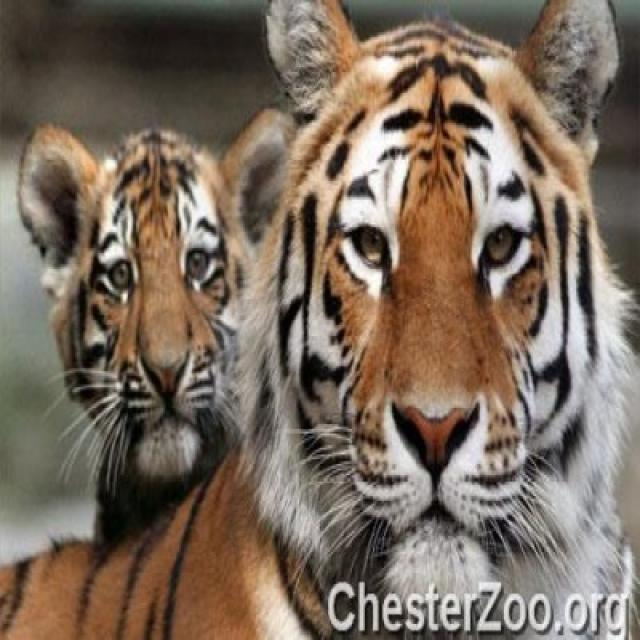Tiger: (2, 0, 632, 638)
